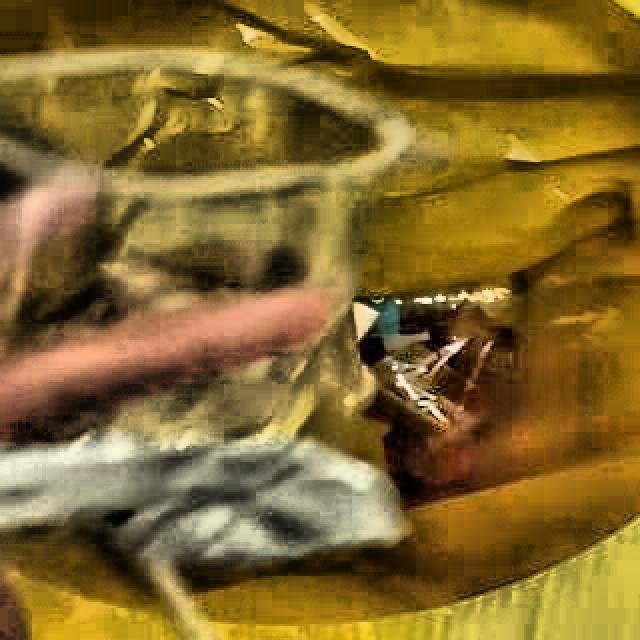plastic: (0, 48, 412, 456)
